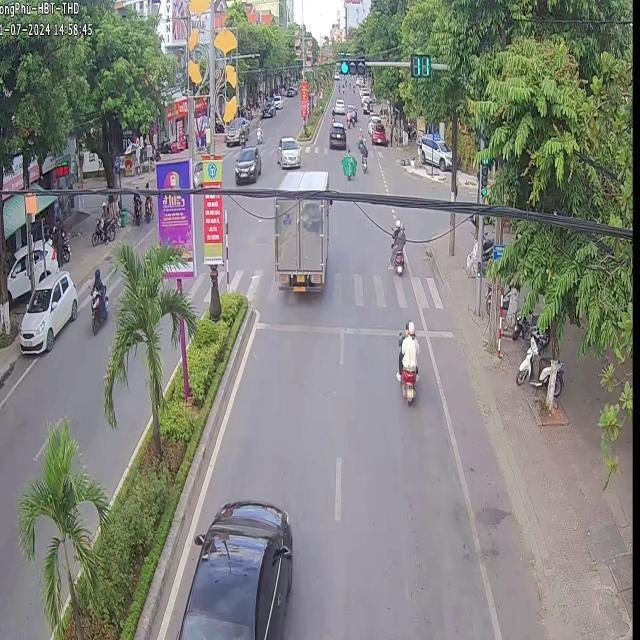car: (177, 500, 290, 638), (273, 198, 328, 291), (277, 169, 327, 191), (233, 145, 259, 182), (276, 136, 299, 167), (327, 120, 344, 147)
green_light: (338, 56, 364, 74), (477, 160, 487, 199)
motobike: (395, 320, 417, 404), (387, 218, 404, 274), (339, 149, 356, 177), (359, 156, 366, 171)
stop_line: (254, 319, 454, 337)
